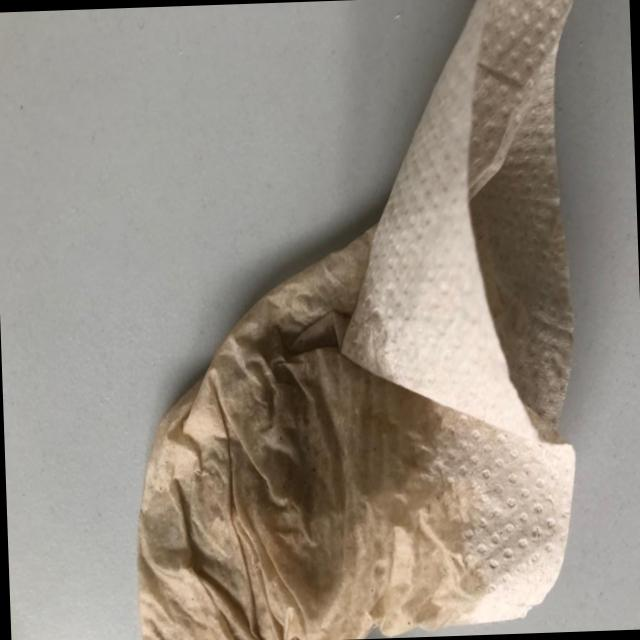organic waste: (117, 0, 595, 640)
